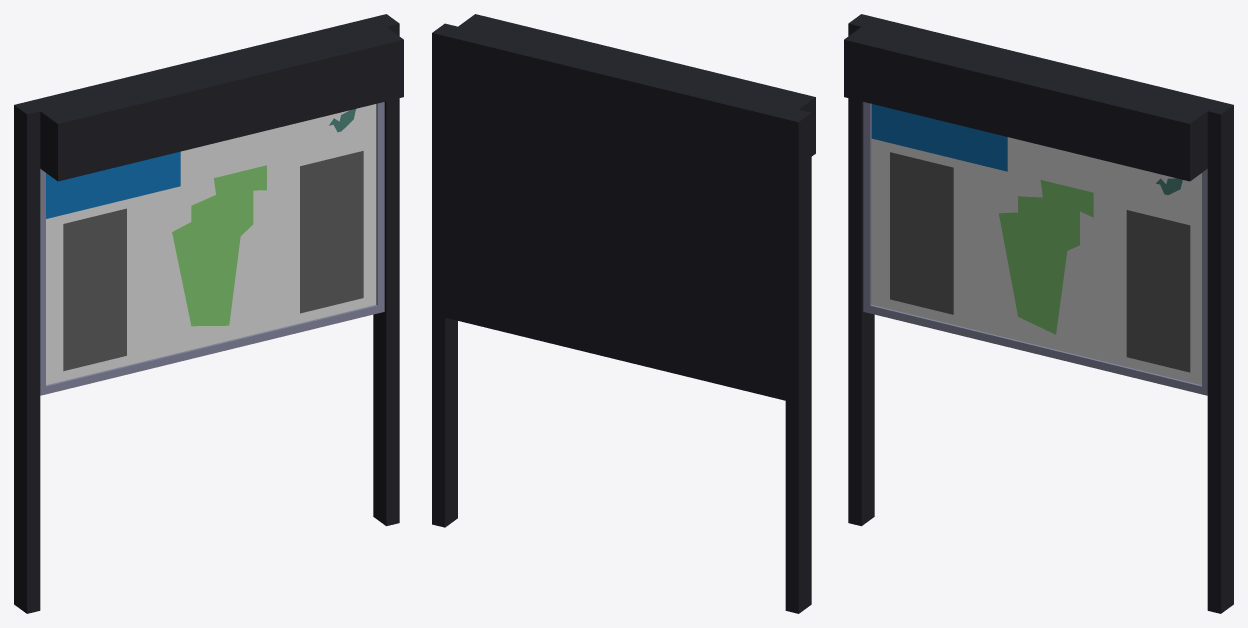
The model's file is Map.fbx.
3 renders of one model, left to right at view 1: azimuth 30°, elevation 25°; view 2: azimuth 150°, elevation 25°; view 3: azimuth 330°, elevation 25°, orthographic.
Visible parts, largest first — view 1: Map; view 2: Map; view 3: Map.
Part boxes in pixels (bbox=[...]): Map: bbox=[14, 14, 403, 613]; Map: bbox=[432, 14, 815, 613]; Map: bbox=[844, 14, 1233, 613].
Bounding box in the file's own units: 1.83 × 2.35 × 0.2612.
